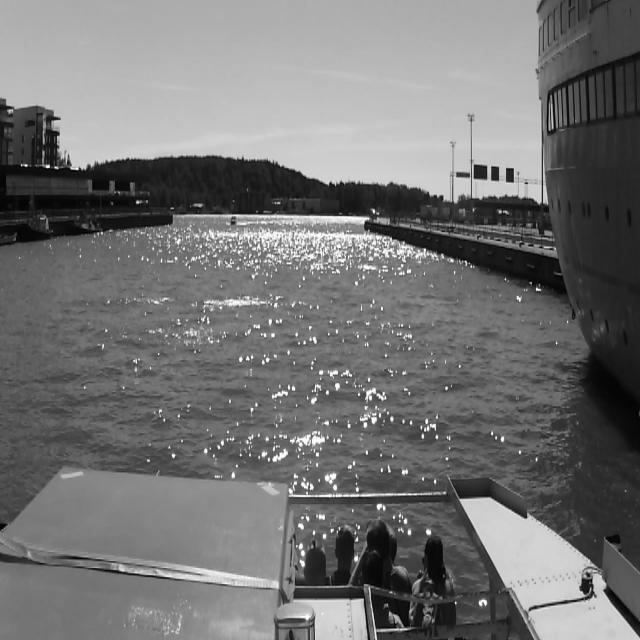ship: (19, 170, 53, 245), (68, 204, 102, 238), (228, 214, 238, 226)
